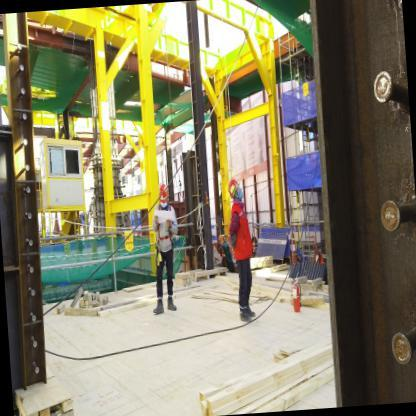safety-shoe: (149, 299, 165, 318), (239, 310, 253, 328), (168, 296, 179, 314)
